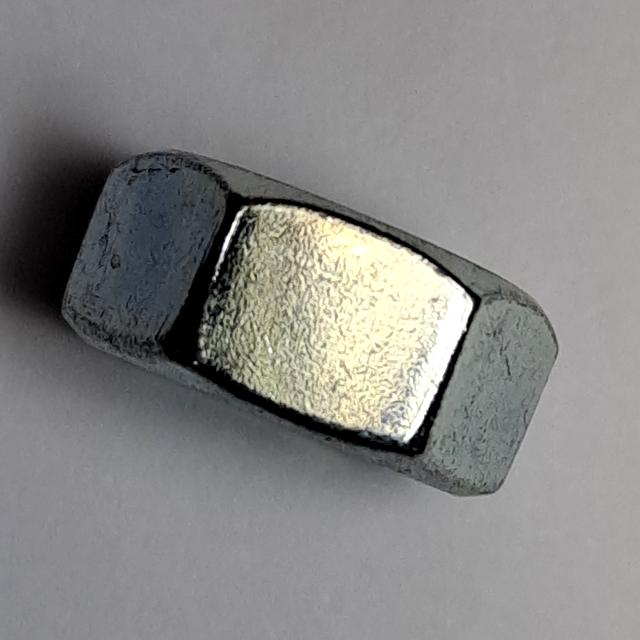Side_Excellent: (53, 141, 575, 506)
